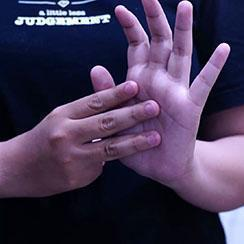M: (46, 0, 234, 239)
